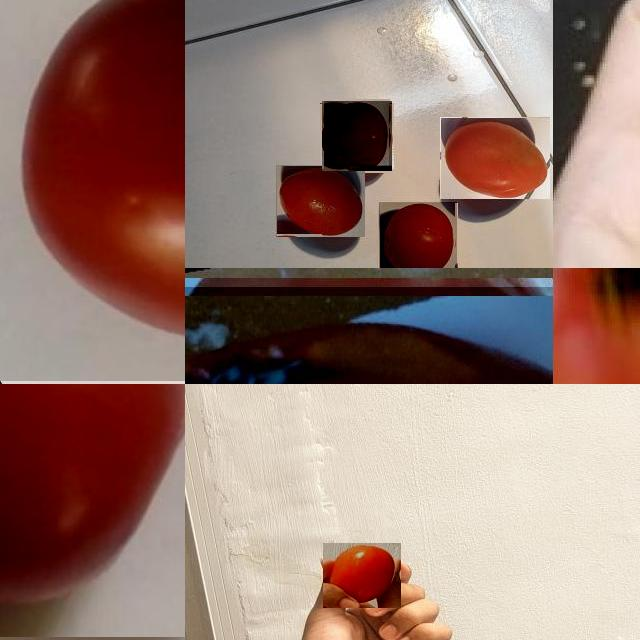0: (0, 384, 185, 637)
Fresh Tomato: (0, 0, 185, 381), (440, 117, 550, 199), (276, 165, 365, 238), (379, 201, 456, 268), (324, 543, 402, 608), (322, 101, 392, 171)
Rotten Tomato: (185, 287, 553, 384)
